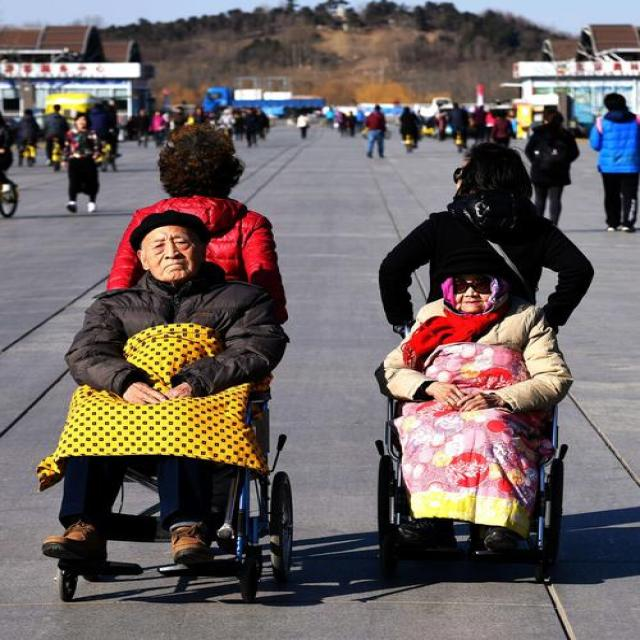wheelchairs: (32, 379, 310, 610), (355, 341, 584, 590)
